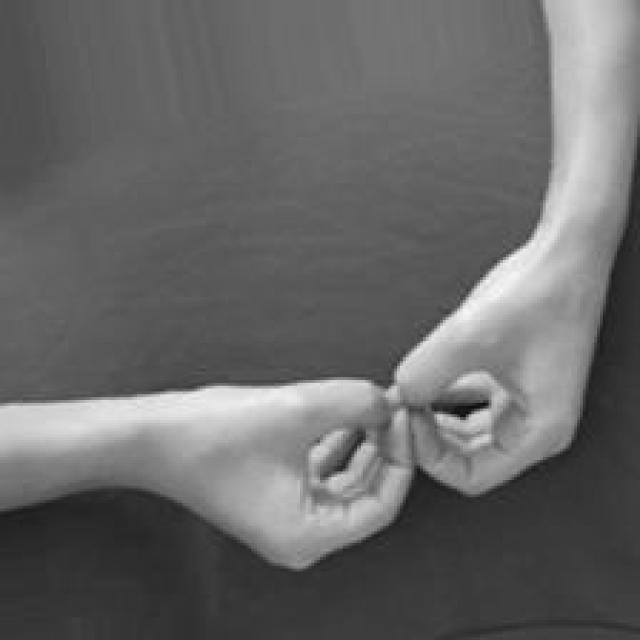B: (190, 243, 640, 579)
